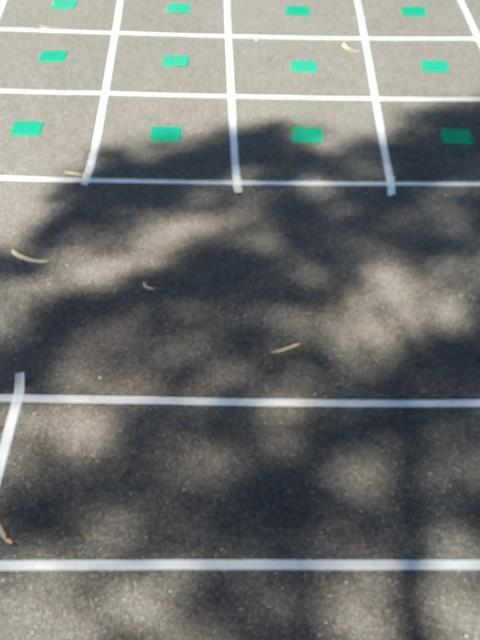weed: (290, 122, 326, 149), (148, 120, 183, 146), (440, 122, 473, 148), (289, 54, 316, 79), (9, 118, 44, 137), (159, 50, 194, 69), (419, 56, 449, 77), (284, 0, 309, 22), (166, 0, 196, 16), (401, 2, 426, 20), (38, 48, 70, 62), (48, 0, 78, 11)
